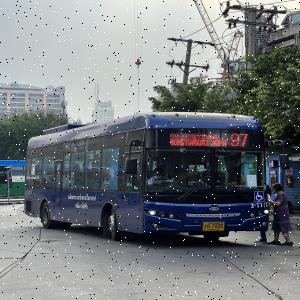Bus Line Number: (229, 132, 250, 148)
Bus Side Number: (250, 201, 270, 208)
Destination Sign: (166, 132, 228, 148)
TSB-Bus: (24, 112, 269, 241)
